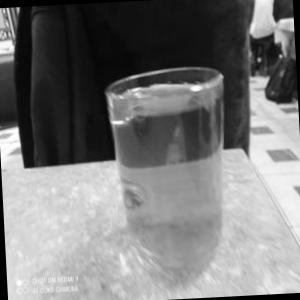tea: (92, 53, 242, 280)
